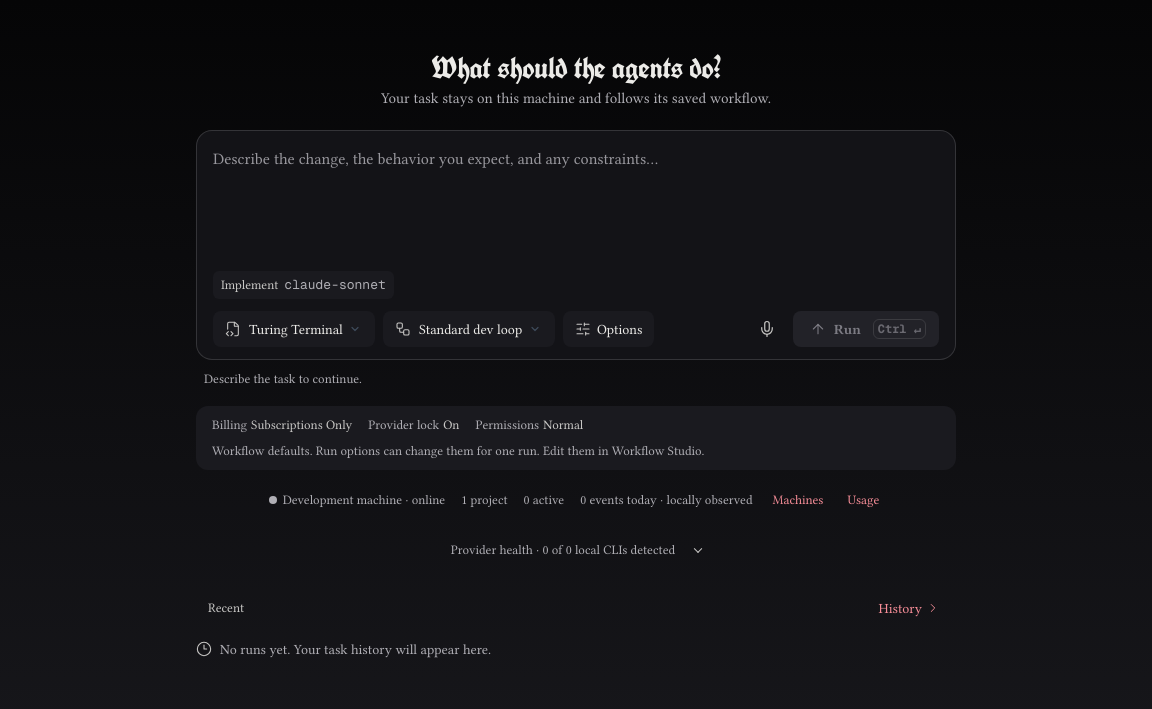
Test case: run preview notice matches canStart (finding 10) › [RED] a preview that cannot start is not announced as "Run preview is ready"
This screenshot has width=1152, height=709.
Step 1. Type "Fix the parser" into the text box named "What should the agents do?" → (576,203), box [213,147,939,259]
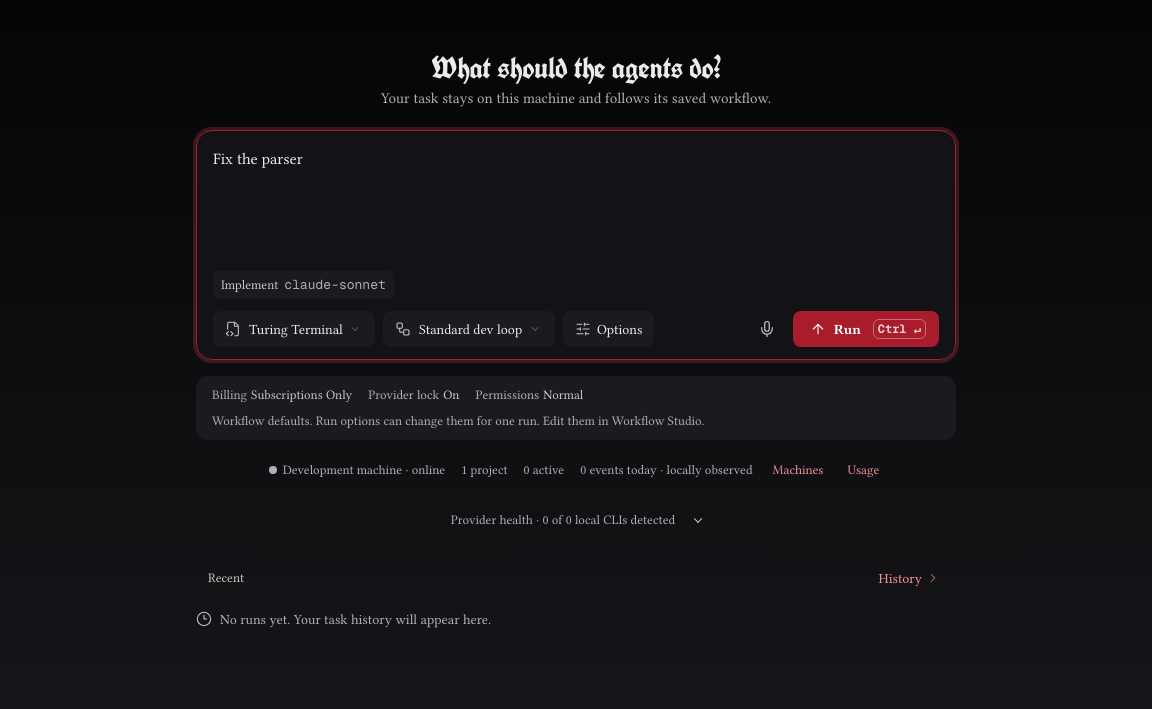
Step 2. Click the button with aria-label "Review run preview" → (866,329), box [793,311,939,347]
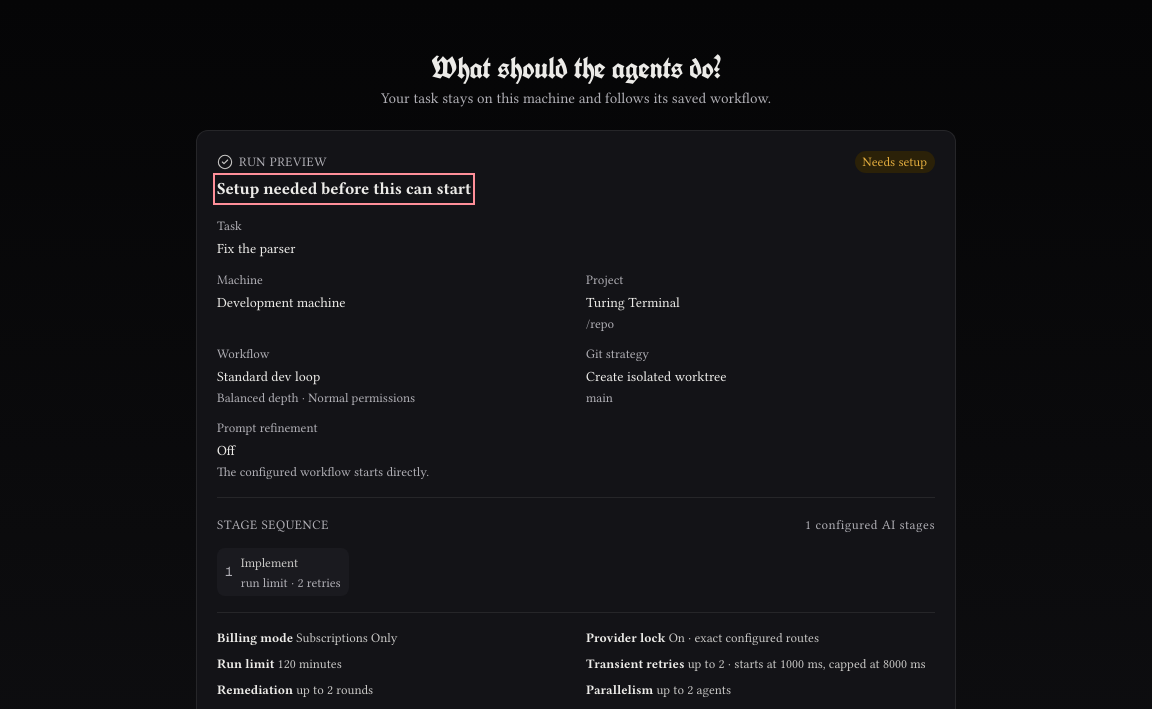
Check: the heading "Setup needed before this can start" is shown, box [217,177,471,201]
